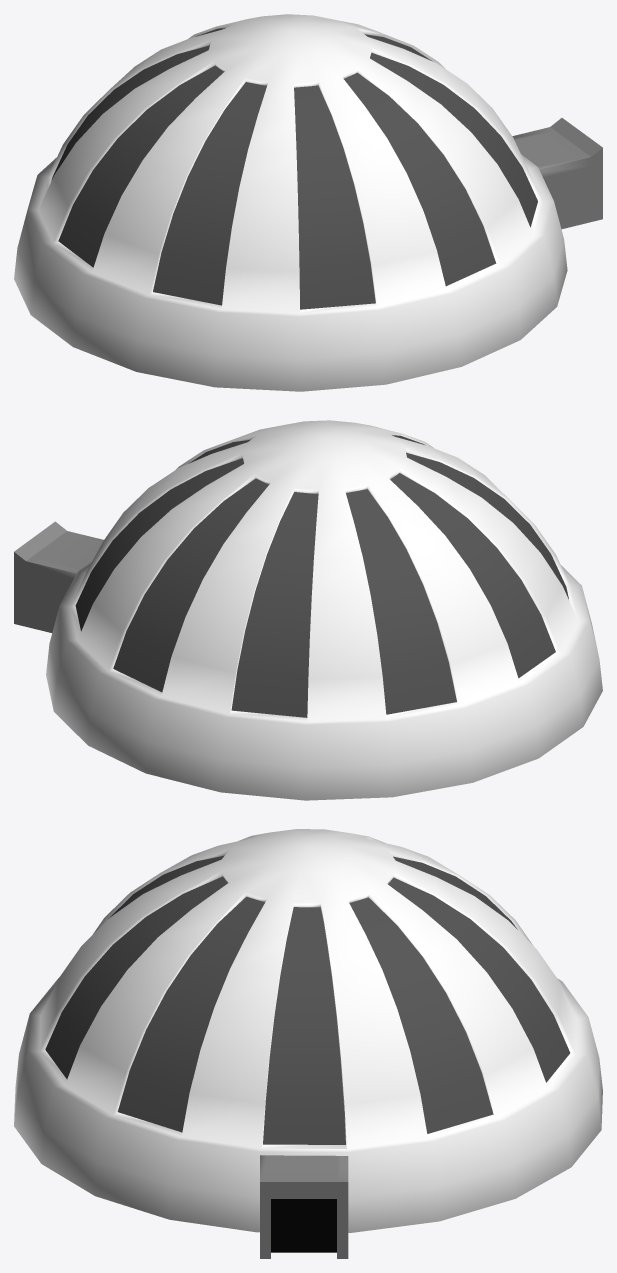
File: TrainStation.obj
3 renders of one model, top to bottom at view 1: azimuth 30°, elevation 25°; view 2: azimuth 150°, elevation 25°; view 3: azimuth 270°, elevation 25°, orthographic. The views are drawn at different scales.
Parts seen in each view (by area): view 1: Refinery_Whole; view 2: Refinery_Whole; view 3: Refinery_Whole.
Boxes of the visible parts, x1=… form: Refinery_Whole: x1=14, y1=14, x2=602, y2=391; Refinery_Whole: x1=14, y1=420, x2=602, y2=800; Refinery_Whole: x1=14, y1=829, x2=602, y2=1258.
Size of the model in its own units: 59.31 by 26.25 by 53.44.
